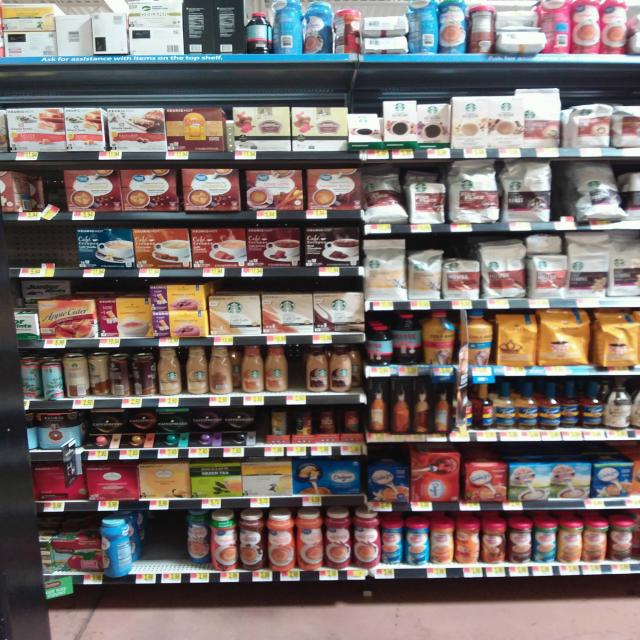unorganised: (357, 165, 408, 227), (185, 508, 212, 565), (524, 229, 564, 256)
